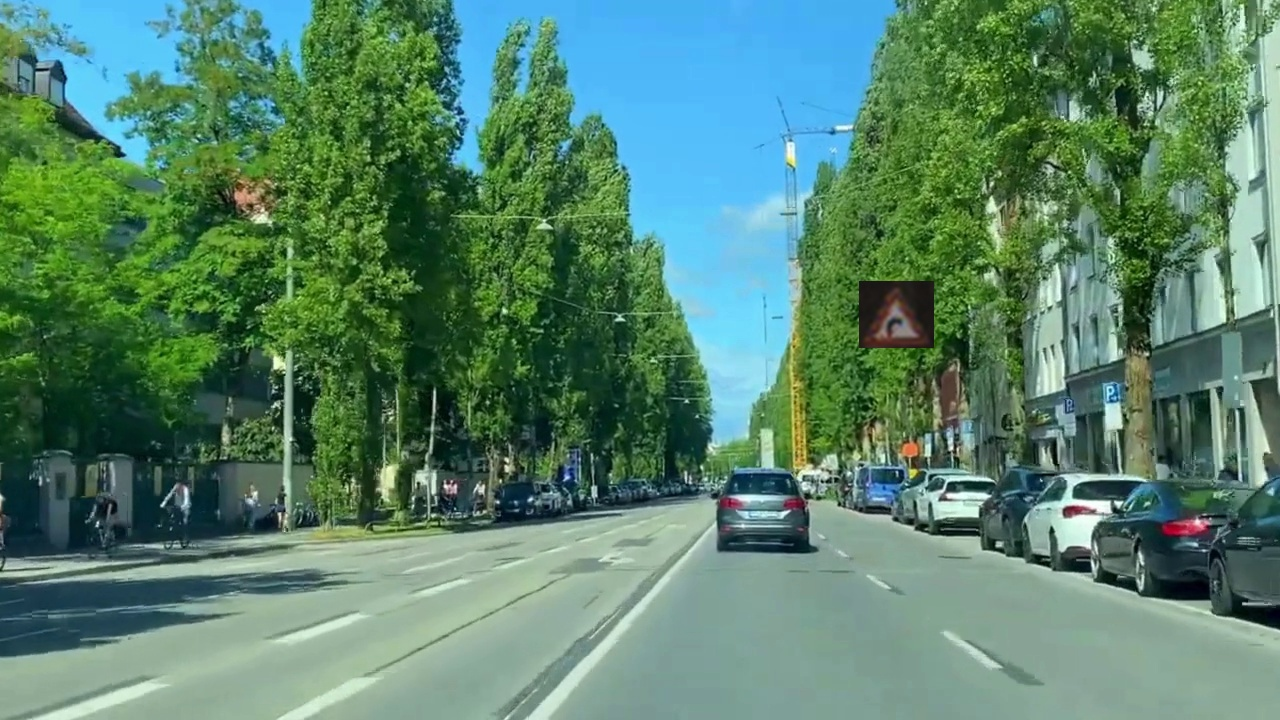Curve right: (859, 281, 934, 348)
